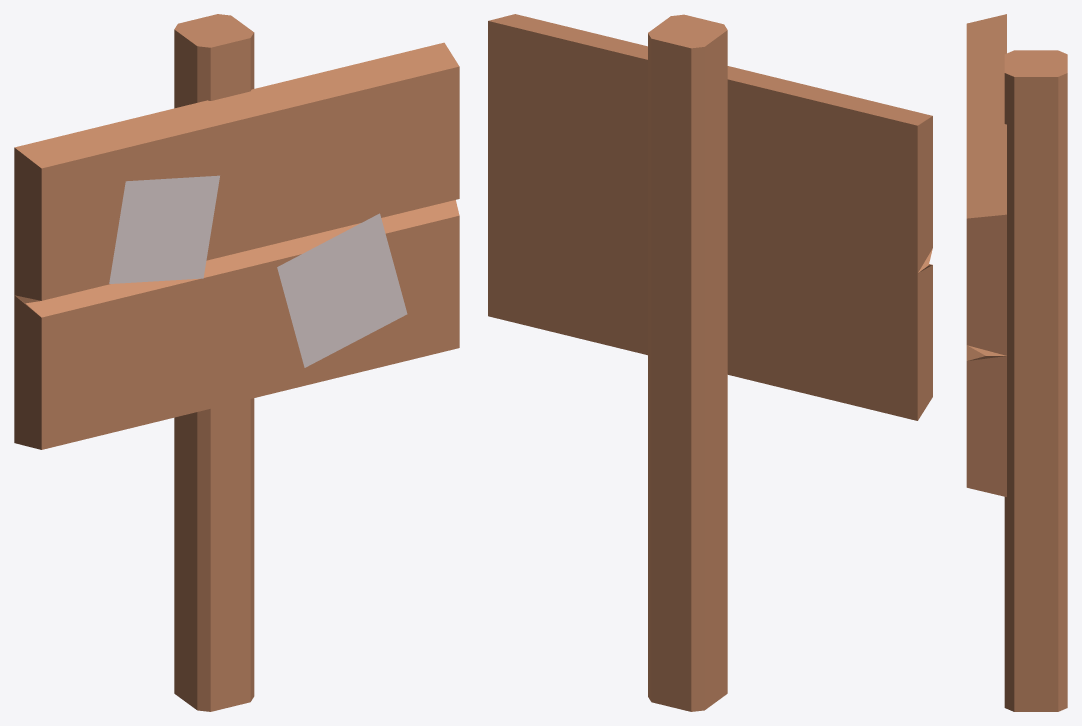
Rendered from Oneboard.fbx.
3 renders of one model, left to right at view 1: azimuth 30°, elevation 25°; view 2: azimuth 150°, elevation 25°; view 3: azimuth 270°, elevation 25°, orthographic. The views are drawn at different scales.
Visible parts, largest first — view 1: Oneboard; view 2: Oneboard; view 3: Oneboard.
Part boxes in pixels (box(x1,y1,x2,y2)): Oneboard: box(14, 14, 459, 711); Oneboard: box(488, 14, 932, 711); Oneboard: box(966, 14, 1067, 711).
Size of the model in its own units: 70.93 by 15.87 by 105.
